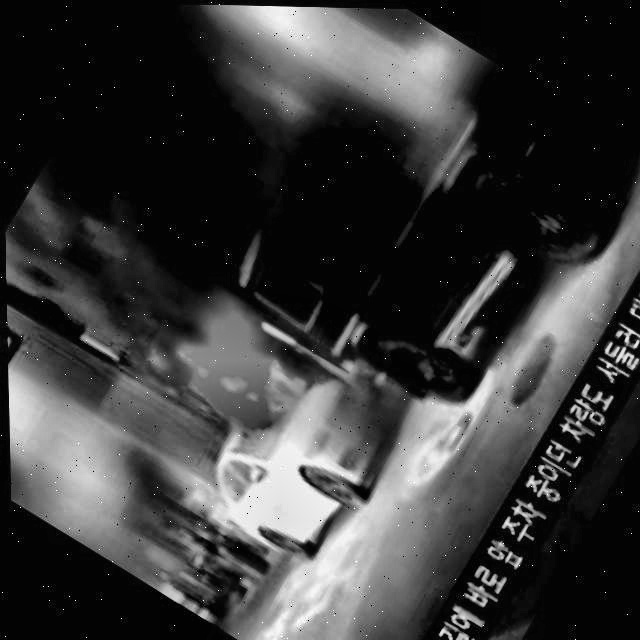Fire: (180, 318, 312, 443)
Smoke: (2, 112, 267, 403)
